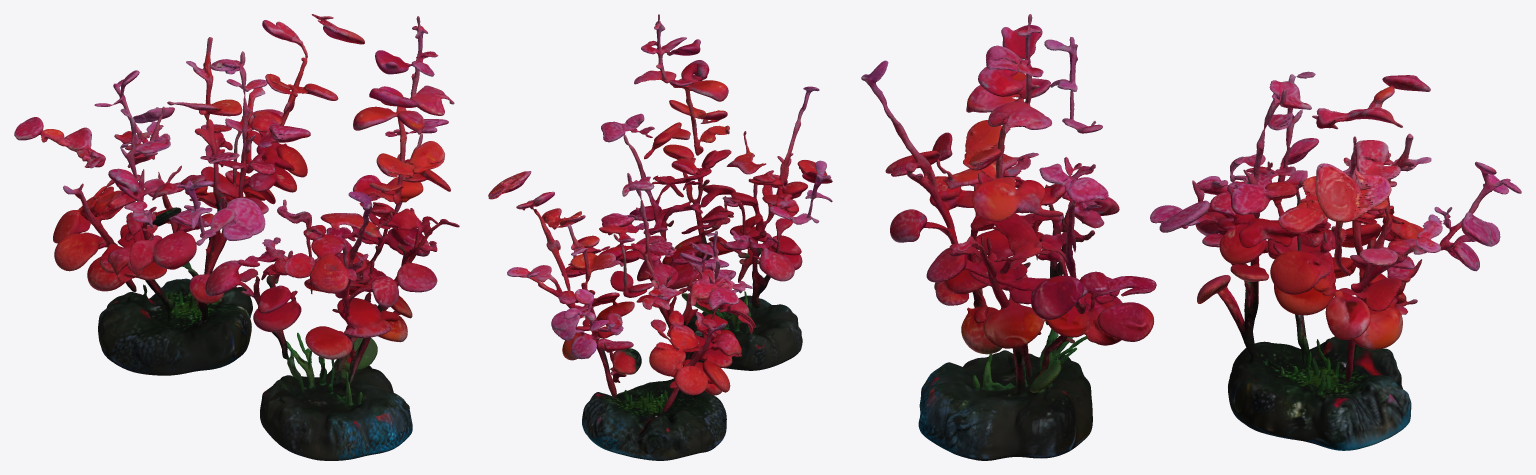
File: redcoral.glb
3 views of the same model, side by side, from view 1: azimuth 30°, elevation 25°; view 2: azimuth 150°, elevation 25°; view 3: azimuth 270°, elevation 25° (orthographic). The views are drawn at different scales.
Parts seen in each view (by area): view 1: tripo_node_483d29c5-c7d7-41f6-9992-e565064792d3; view 2: tripo_node_483d29c5-c7d7-41f6-9992-e565064792d3; view 3: tripo_node_483d29c5-c7d7-41f6-9992-e565064792d3.
Part boxes in pixels (<box>): tripo_node_483d29c5-c7d7-41f6-9992-e565064792d3: <box>14,14,459,460</box>; tripo_node_483d29c5-c7d7-41f6-9992-e565064792d3: <box>488,14,832,460</box>; tripo_node_483d29c5-c7d7-41f6-9992-e565064792d3: <box>861,14,1521,460</box>.
Size of the model in its own units: 0.6746 by 0.7811 by 1.
Materials: 1 (1 with a texture image).
